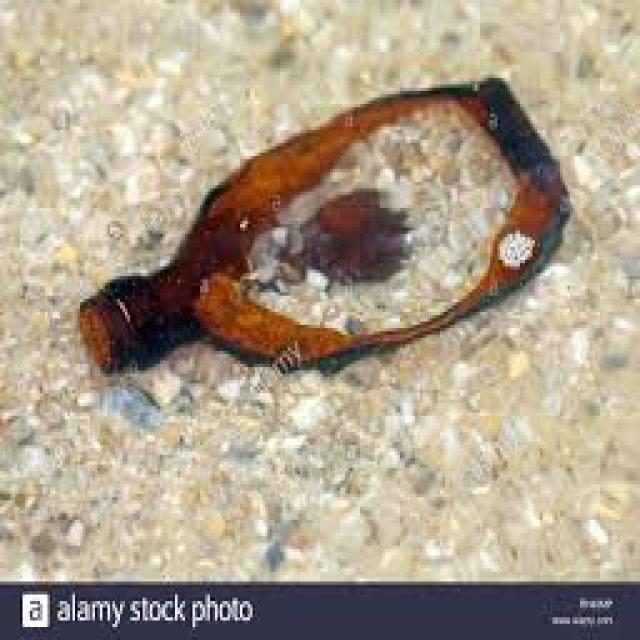glass: (78, 75, 570, 370), (295, 189, 413, 283)
